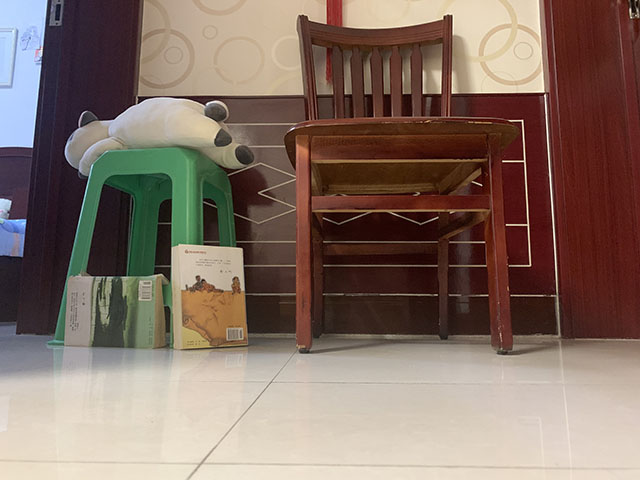book: (169, 242, 250, 351), (62, 272, 171, 349)
stool: (283, 13, 523, 357), (45, 146, 237, 347)
